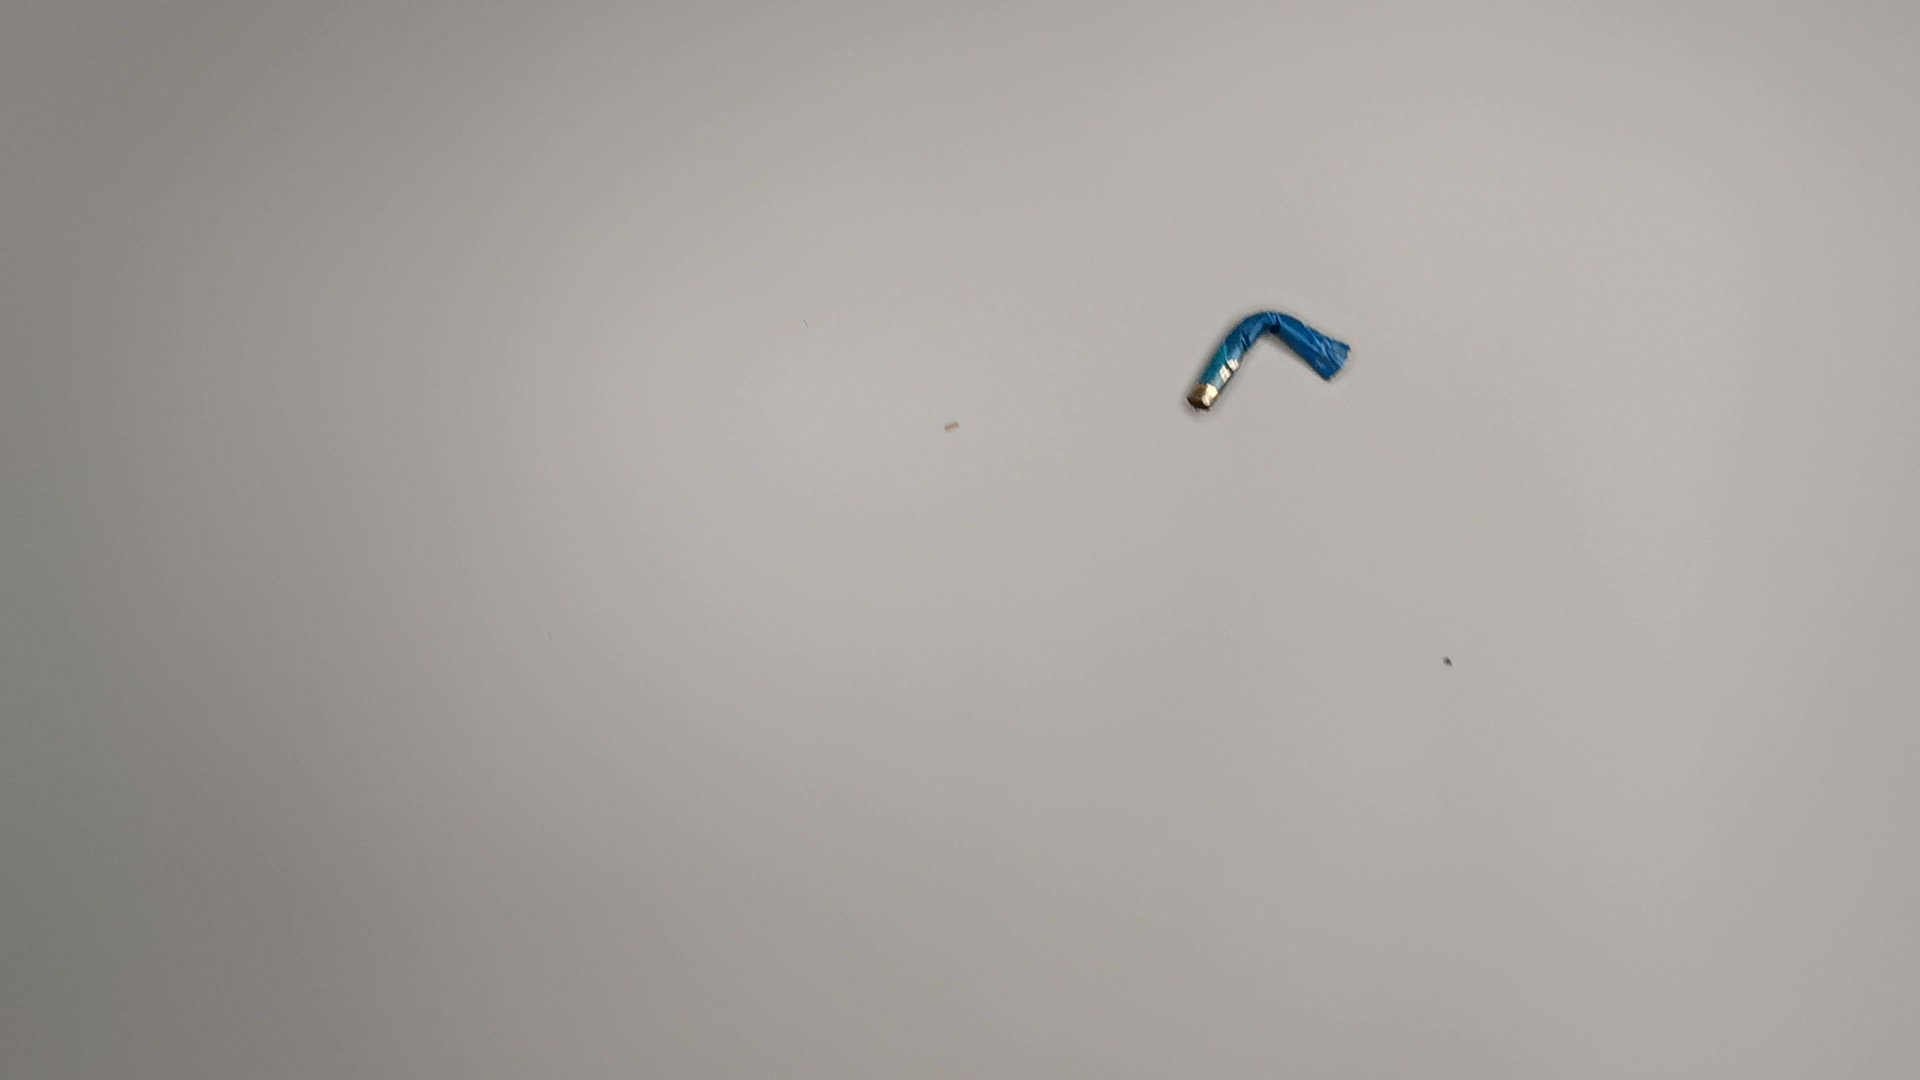cigarette: (1175, 309, 1360, 426)
